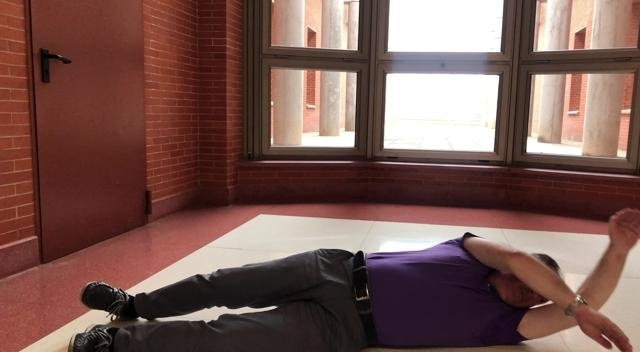fall: (56, 185, 639, 352)
